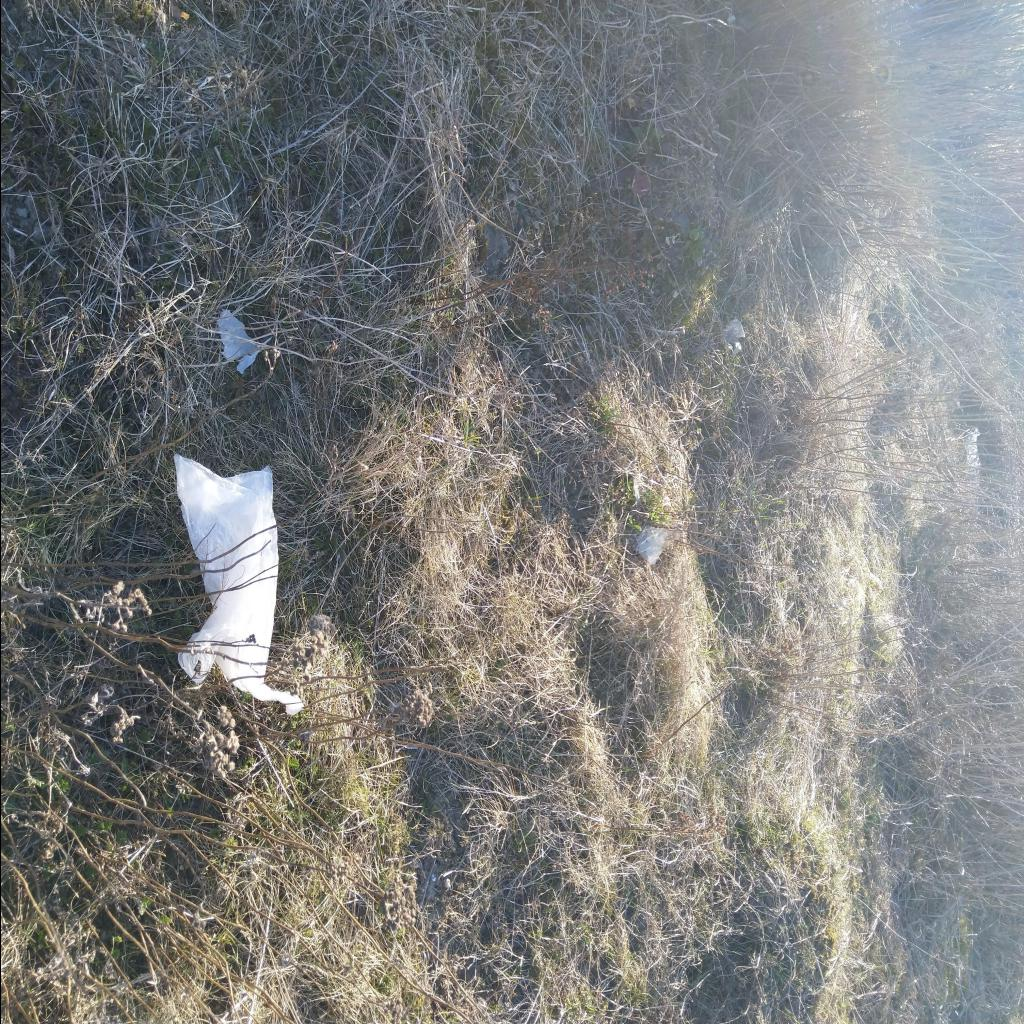Plastic film: (218, 310, 264, 372), (632, 524, 681, 564), (722, 316, 744, 358)
Single-use carrier bag: (173, 455, 304, 715)
Unlabeled litter: (966, 431, 981, 481)
